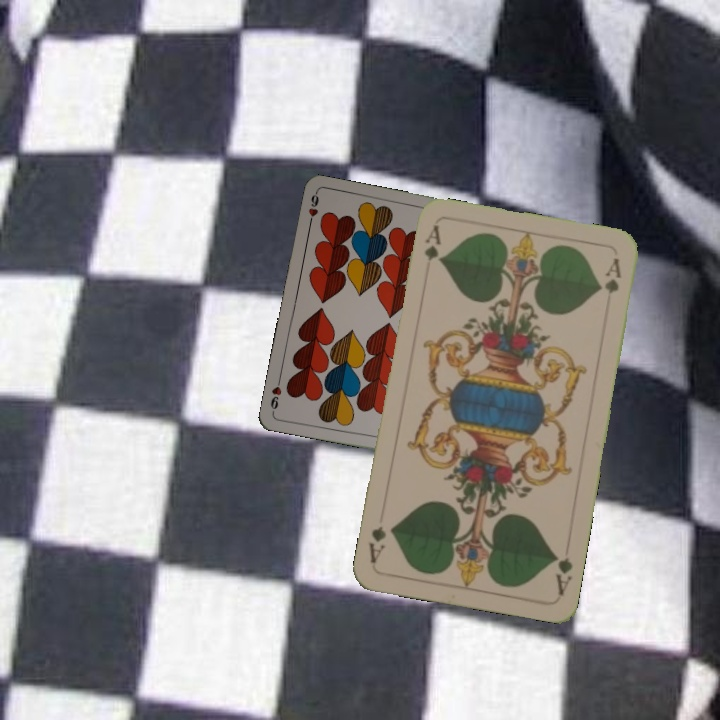GA: (549, 548, 575, 598), (420, 221, 444, 263)
H9: (304, 189, 321, 229)
